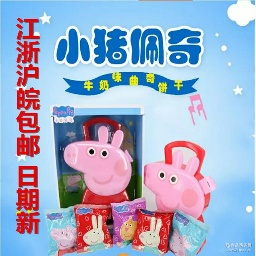Peppa: (64, 125, 134, 204)
